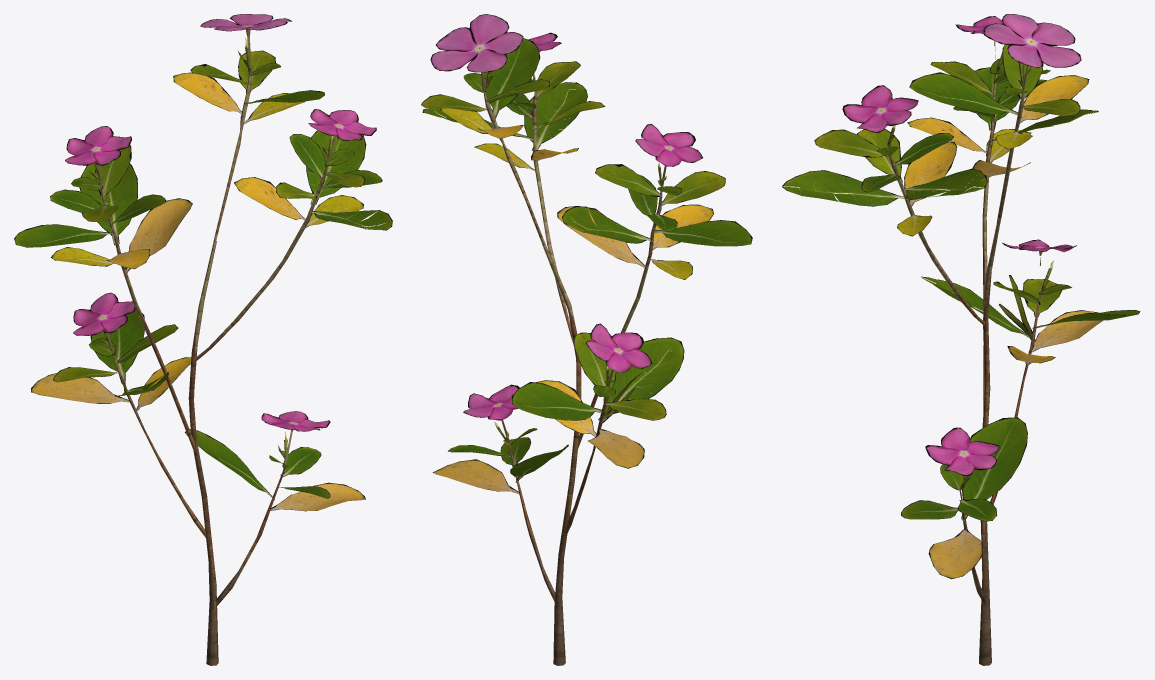
The model's file is periwinkle_plant_2.gltf.
The picture shows the model from 3 angles, left to right: view 1: azimuth 30°, elevation 25°; view 2: azimuth 150°, elevation 25°; view 3: azimuth 270°, elevation 25°; orthographic projection. The views are drawn at different scales.
Parts seen in each view (by area): view 1: periwinkle_plant_03_LOD0; view 2: periwinkle_plant_03_LOD0; view 3: periwinkle_plant_03_LOD0.
Part boxes in pixels (left/top/right/bottom): periwinkle_plant_03_LOD0: left=14, top=14, right=392, bottom=665; periwinkle_plant_03_LOD0: left=421, top=14, right=752, bottom=665; periwinkle_plant_03_LOD0: left=782, top=14, right=1140, bottom=665.
Bounding box in the file's own units: 0.1675 × 0.3002 × 0.1466.
1 material, 1 textured.
